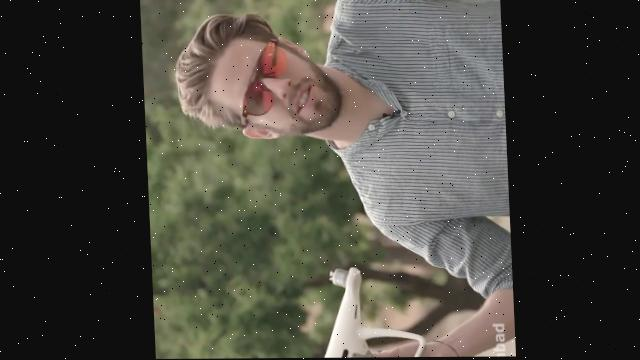drone: (258, 264, 443, 359)
